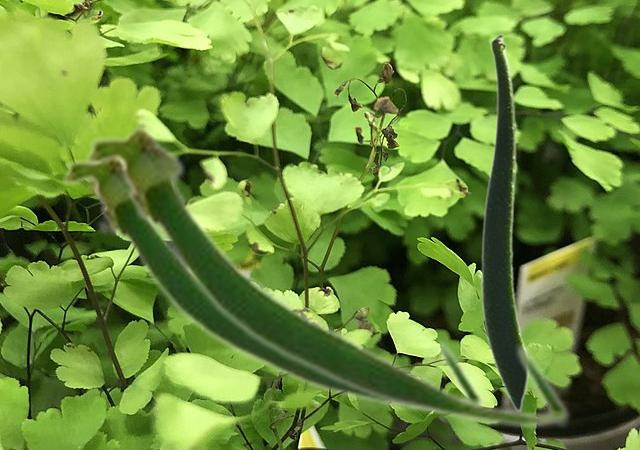french_bean: (81, 121, 571, 430), (59, 153, 485, 414), (480, 32, 529, 407)
